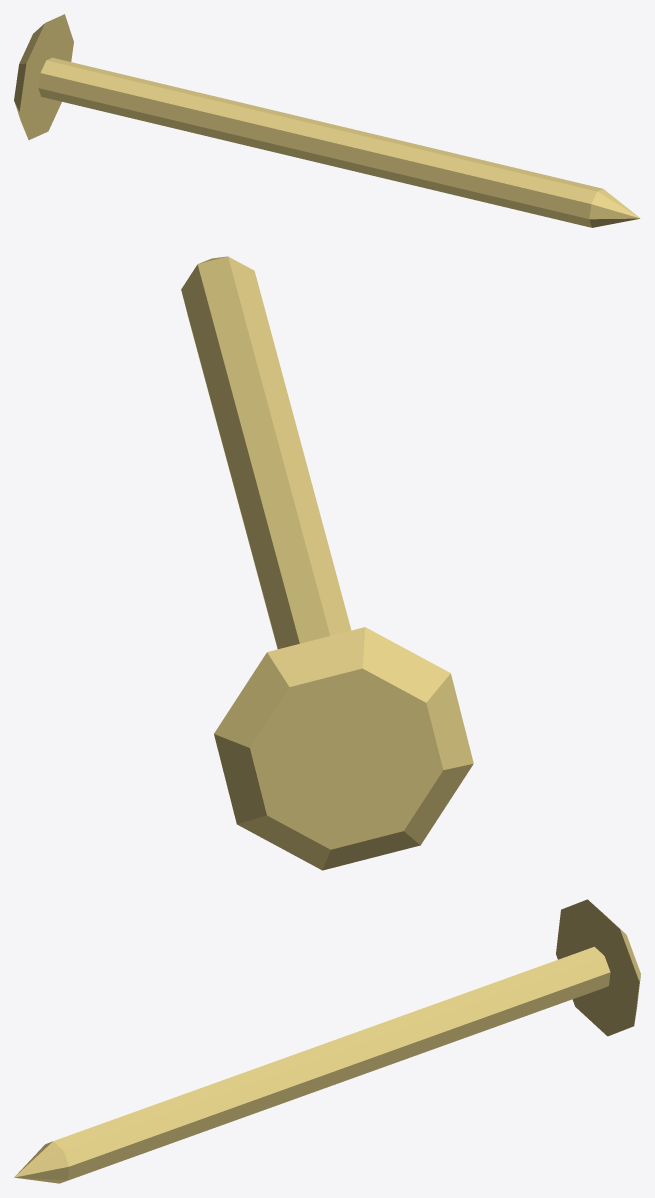
The picture shows the model from 3 angles, top to bottom: view 1: azimuth 30°, elevation 25°; view 2: azimuth 150°, elevation 25°; view 3: azimuth 270°, elevation 25°; orthographic projection. The views are drawn at different scales.
Visible parts, largest first — view 1: Circle.003; view 2: Circle.003; view 3: Circle.003.
Boxes of the visible parts, x1=… form: Circle.003: x1=14, y1=14, x2=640, y2=227; Circle.003: x1=181, y1=256, x2=473, y2=870; Circle.003: x1=14, y1=899, x2=640, y2=1183.
Size of the model in its own units: 0.3828 by 0.1149 by 0.5.
